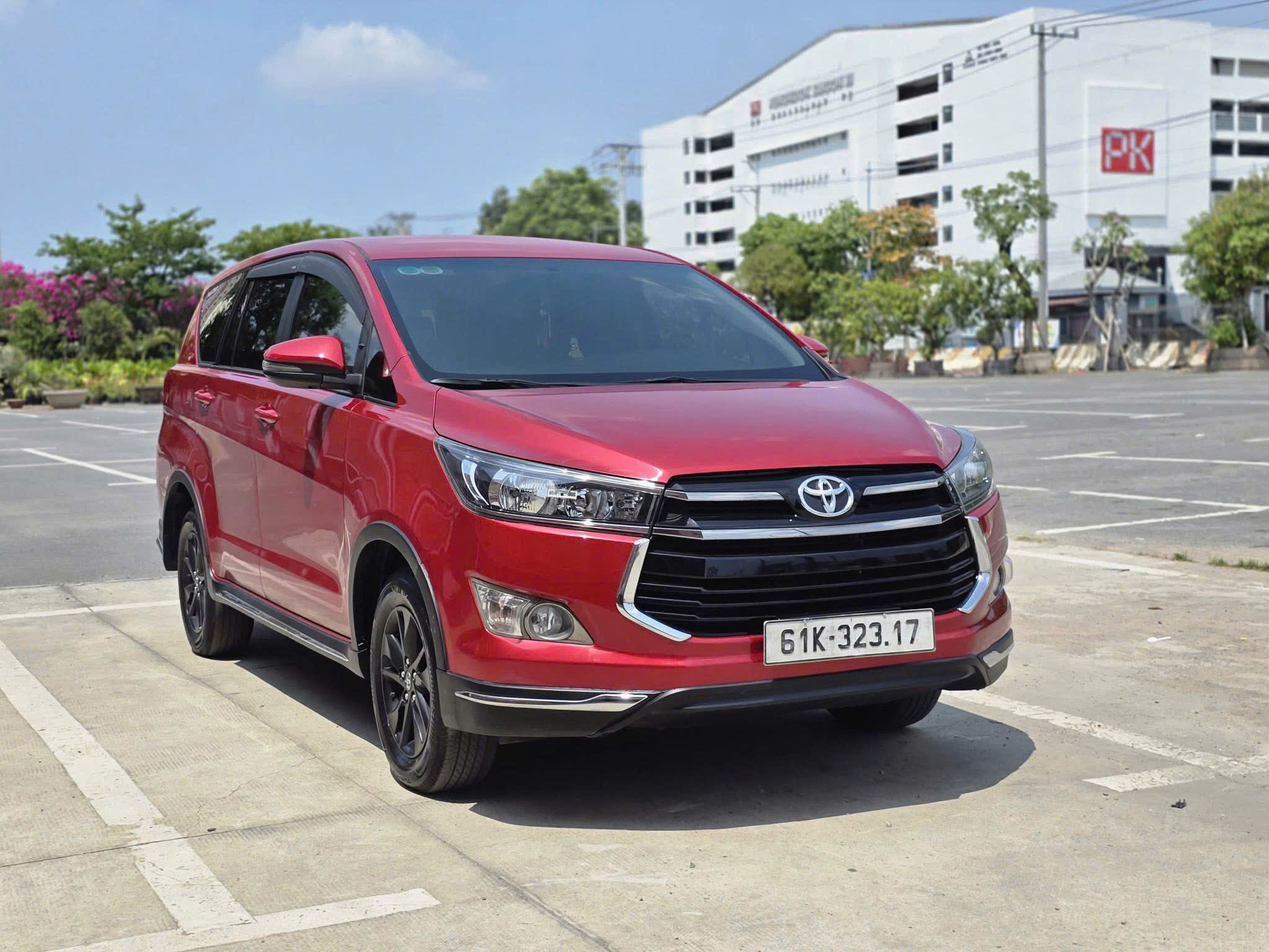Bien-so: (764, 614, 937, 662)
